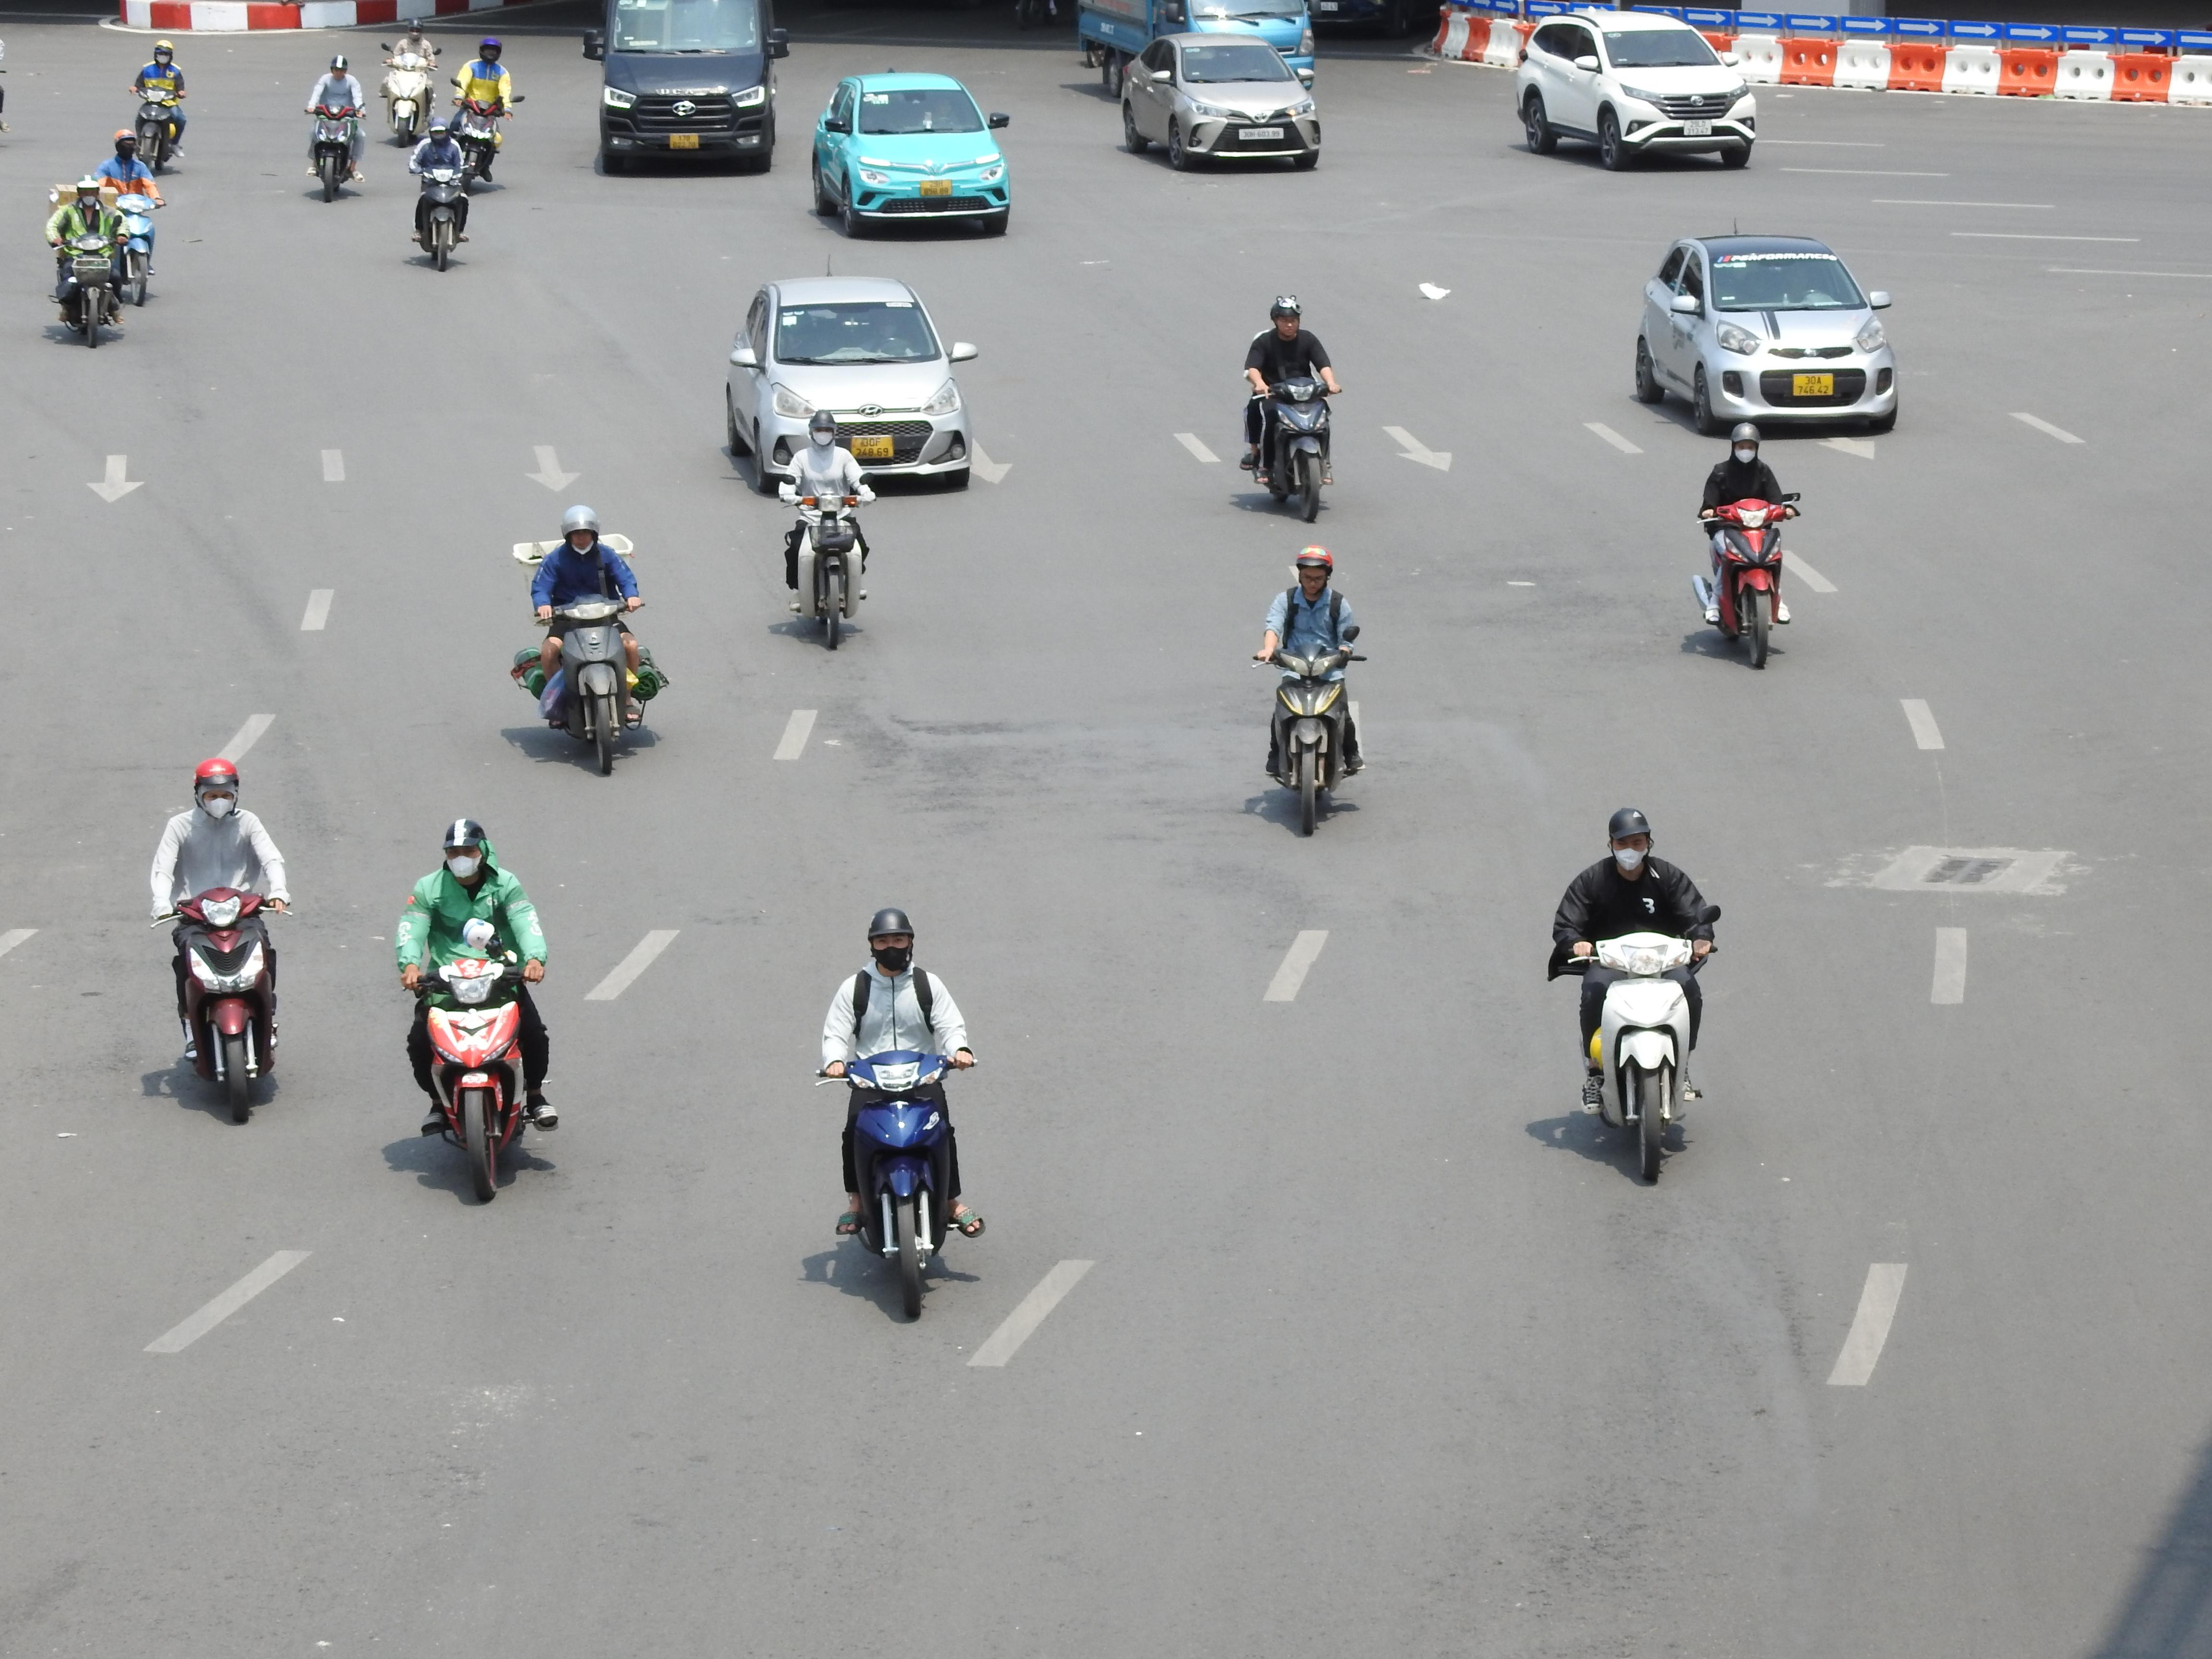BSD: (1238, 127, 1284, 139)
BSV: (852, 434, 894, 458), (1794, 373, 1834, 396), (920, 179, 953, 197), (669, 132, 700, 150), (1684, 118, 1712, 136)
car: (721, 275, 979, 495), (1632, 235, 1900, 437), (1514, 10, 1759, 173), (808, 70, 1012, 239), (1120, 30, 1322, 173)
motorbike: (819, 906, 981, 1324), (1550, 805, 1717, 1187), (399, 817, 554, 1206), (153, 756, 287, 1126), (516, 502, 662, 779), (1256, 547, 1366, 838), (1695, 423, 1799, 671), (1242, 293, 1338, 525), (782, 411, 873, 652), (45, 174, 127, 349), (98, 127, 164, 305), (449, 37, 516, 190), (409, 113, 472, 272), (305, 54, 366, 202), (129, 42, 188, 174), (381, 24, 439, 146)
